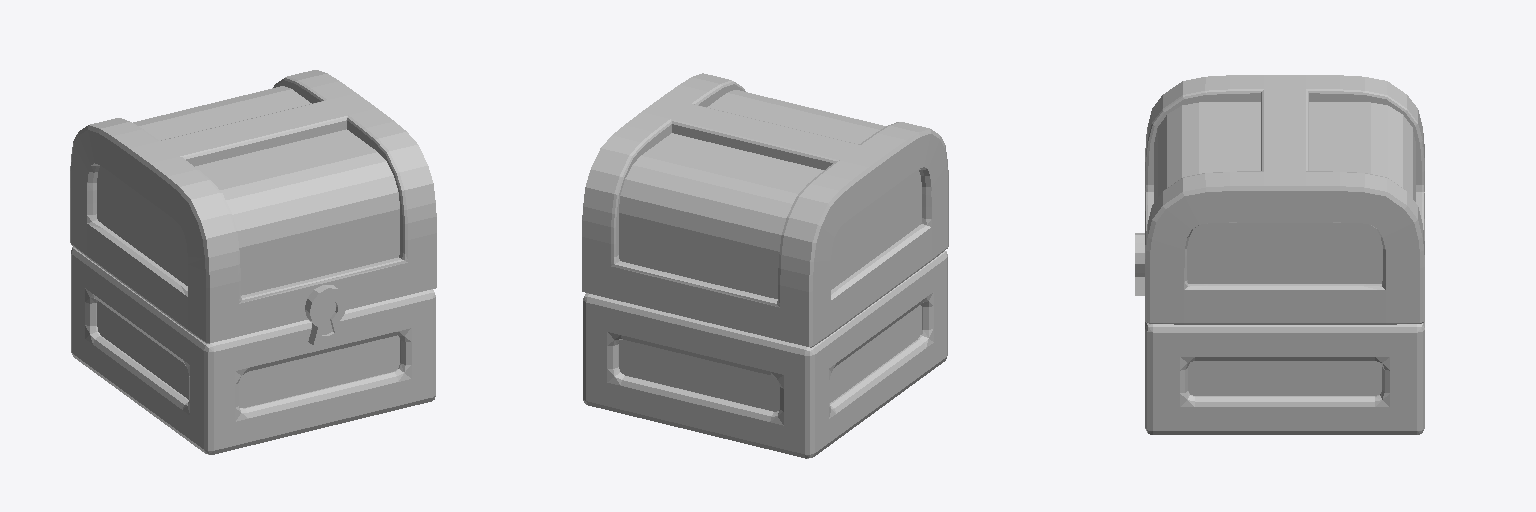
The model's file is Chest_Closed.obj.
3 views of the same model, side by side, from view 1: azimuth 30°, elevation 25°; view 2: azimuth 150°, elevation 25°; view 3: azimuth 270°, elevation 25° (orthographic).
Parts seen in each view (by area): view 1: Chest_Closed_Cube.090; view 2: Chest_Closed_Cube.090; view 3: Chest_Closed_Cube.090.
Boxes of the visible parts, x1=… form: Chest_Closed_Cube.090: x1=70, y1=70, x2=436, y2=454; Chest_Closed_Cube.090: x1=582, y1=73, x2=948, y2=458; Chest_Closed_Cube.090: x1=1135, y1=75, x2=1424, y2=434.
Size of the model in its own units: 1.84 by 1.91 by 1.99.